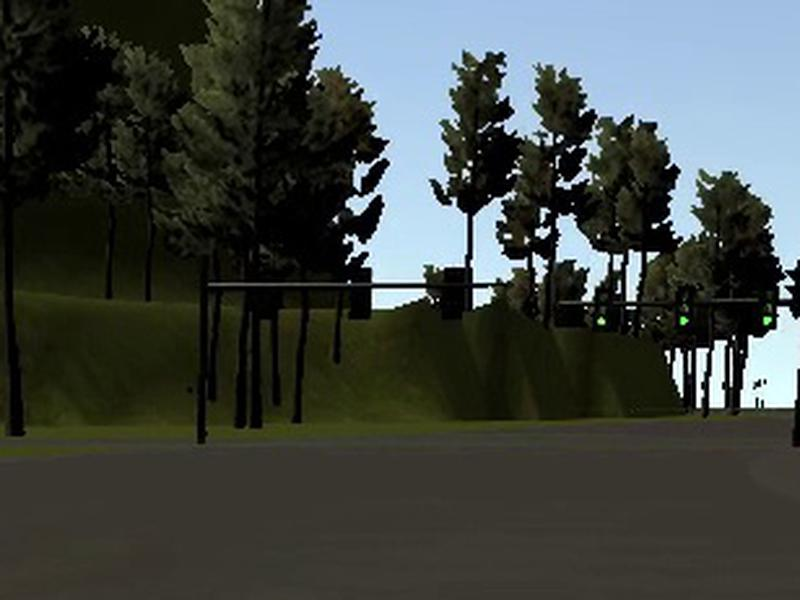Green: (675, 285, 697, 332), (759, 284, 779, 329), (594, 288, 614, 332)
